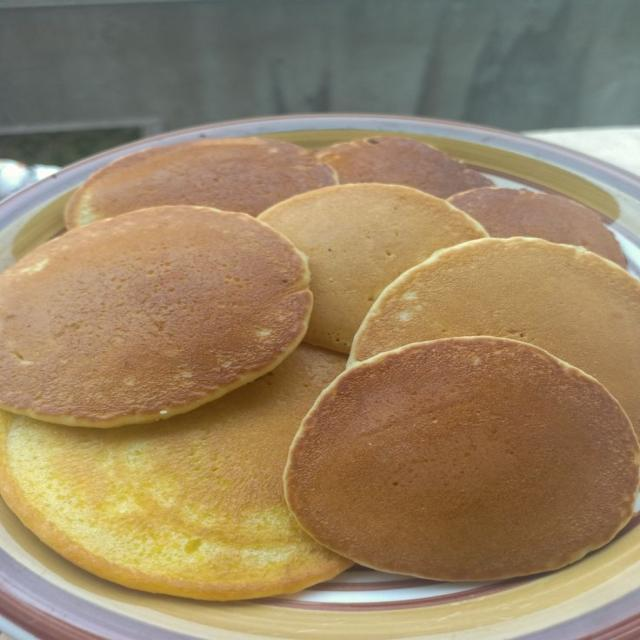pancake: (0, 345, 350, 600), (286, 337, 639, 580), (0, 207, 312, 427), (351, 238, 639, 430), (259, 184, 486, 352), (66, 138, 336, 228), (449, 188, 626, 266), (316, 136, 493, 197)
